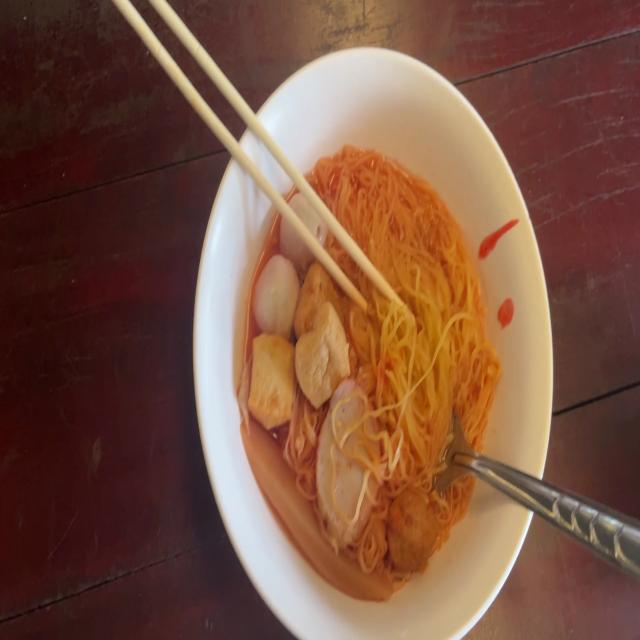crunchy_squid: (239, 413, 397, 600)
egg_noodles: (318, 135, 501, 539)
fish_ball: (250, 251, 300, 347), (280, 188, 326, 273)
fried_fish_balls: (322, 381, 378, 547)
fried_tofu: (297, 306, 348, 406), (296, 261, 346, 347)
noodle: (242, 147, 494, 568)
tofu: (244, 330, 298, 434)
